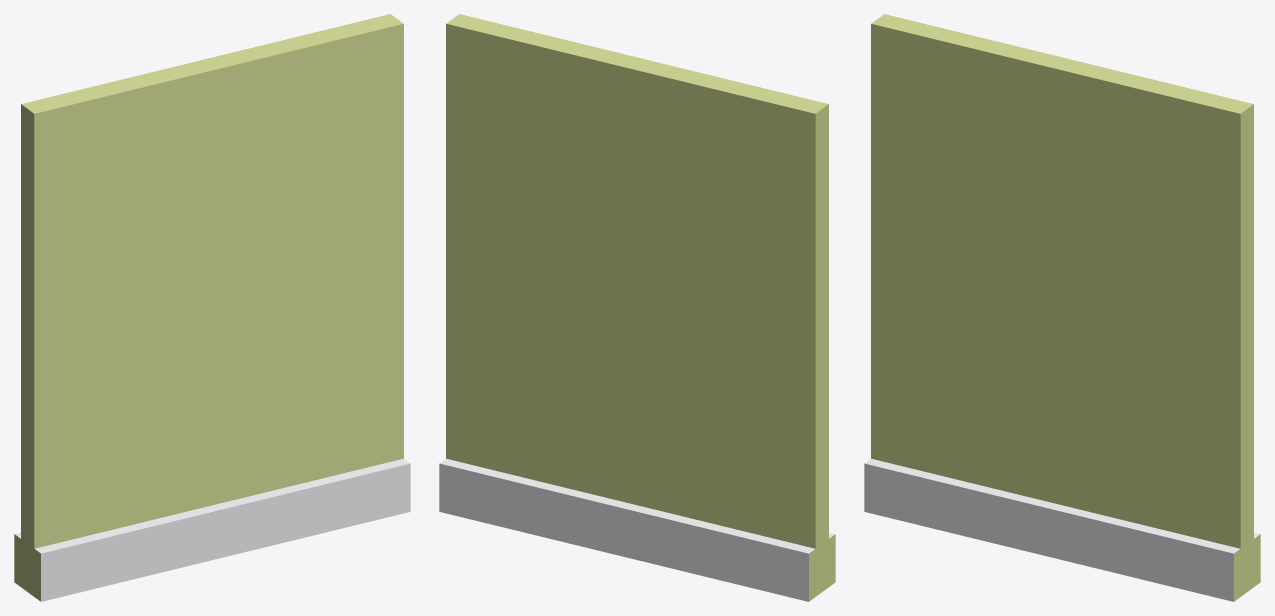
The model's file is WallInsideEdge.glb.
3 views of the same model, side by side, from view 1: azimuth 30°, elevation 25°; view 2: azimuth 150°, elevation 25°; view 3: azimuth 330°, elevation 25° (orthographic).
Parts seen in each view (by area): view 1: WallEdge.003; view 2: WallEdge.003; view 3: WallEdge.003.
Part boxes in pixels (left/top/right/bottom): WallEdge.003: left=14, top=14, right=410, bottom=601; WallEdge.003: left=439, top=14, right=835, bottom=601; WallEdge.003: left=864, top=14, right=1260, bottom=601.
Bounding box in the file's own units: 32 × 40 × 4.
